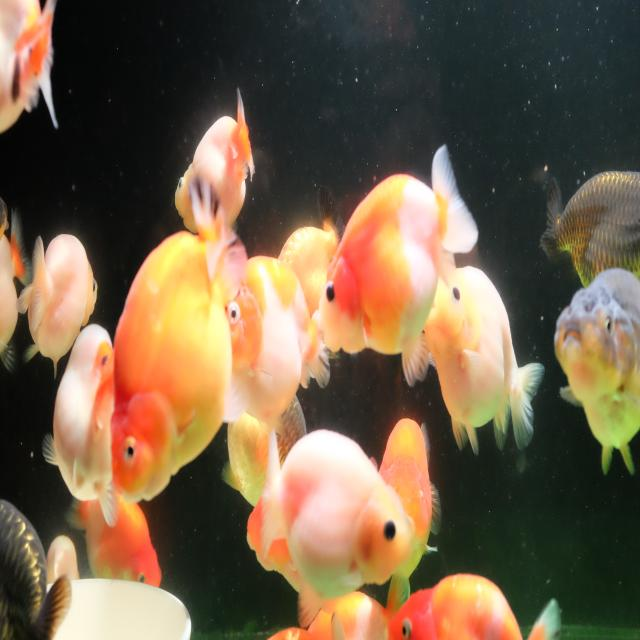Goldfish: (112, 175, 249, 507), (317, 140, 481, 388), (262, 429, 410, 629), (423, 263, 545, 461), (224, 252, 340, 442), (553, 265, 640, 479), (41, 322, 120, 527), (539, 167, 640, 289), (174, 84, 255, 236), (16, 231, 99, 379), (386, 571, 564, 640), (376, 416, 442, 576), (66, 493, 162, 587), (0, 0, 60, 140)
